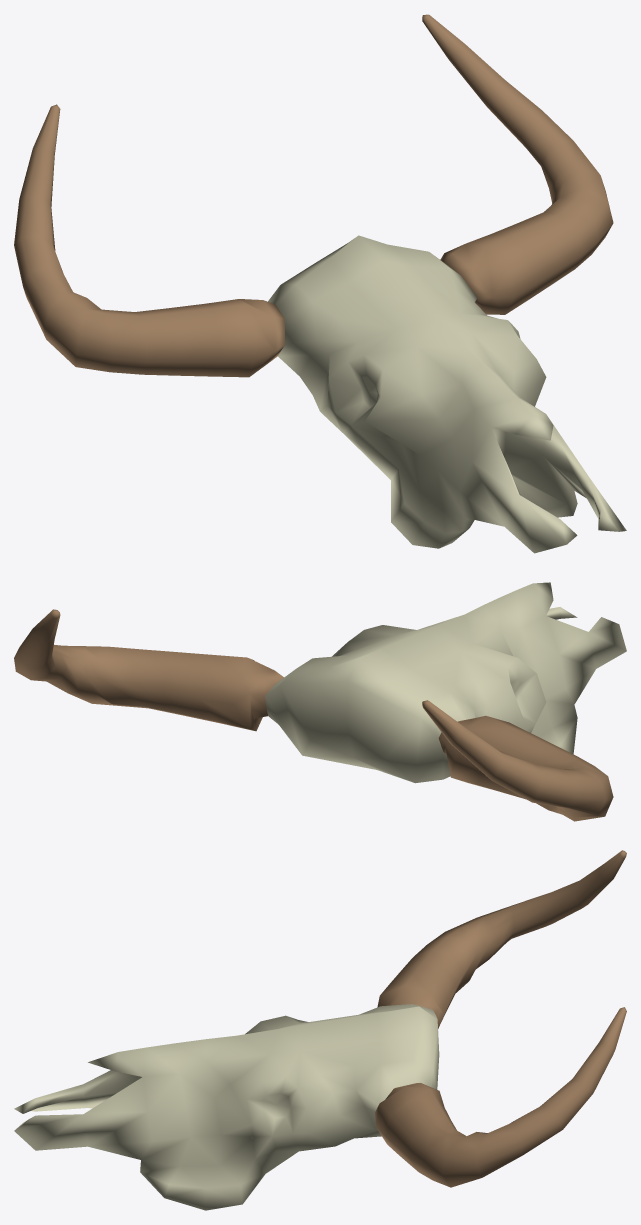
Rendered from cowskull 1.fbx.
3 renders of one model, top to bottom at view 1: azimuth 30°, elevation 25°; view 2: azimuth 150°, elevation 25°; view 3: azimuth 270°, elevation 25°, orthographic. The views are drawn at different scales.
Parts seen in each view (by area): view 1: Skull; view 2: Skull; view 3: Skull.
Part boxes in pixels (x1,y1,x2,y2): Skull: (14, 14, 626, 553); Skull: (14, 582, 626, 821); Skull: (14, 850, 626, 1210).
Size of the model in its own units: 457 by 226 by 500.
